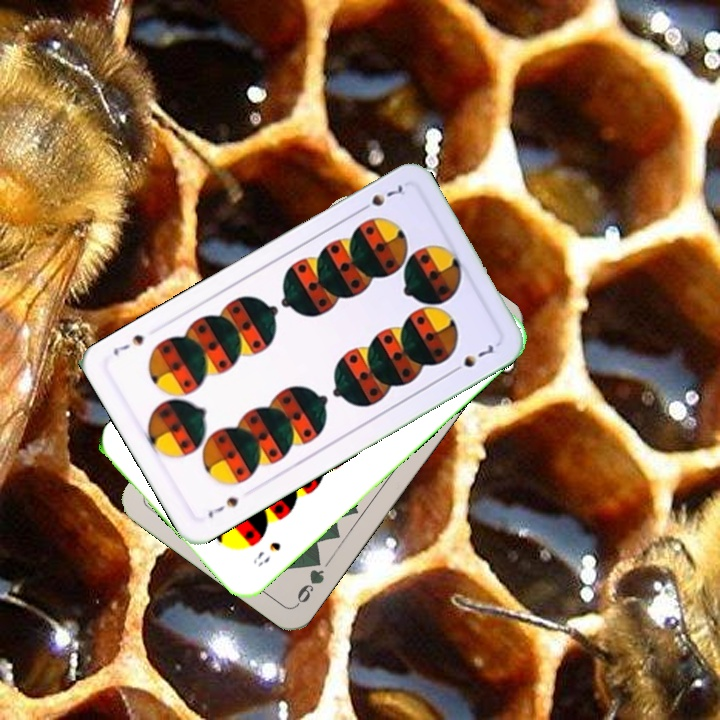G9: (292, 551, 327, 608)
S7: (354, 180, 406, 215), (203, 493, 241, 521)
S8: (248, 537, 283, 569)
